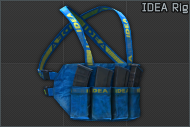DIY IDEA chest rig: (0, 0, 190, 127)
